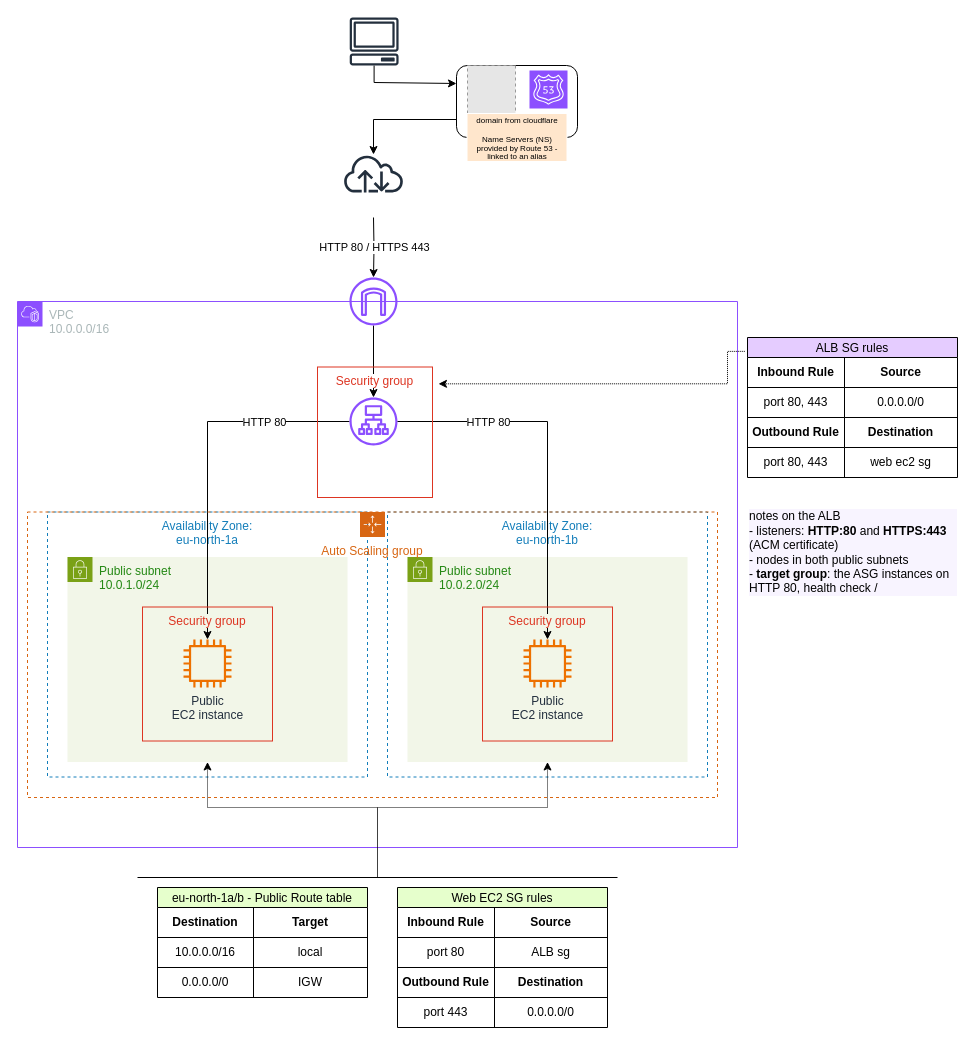
The diagram is 975 pixels wide and 1045 high, and some of its shapes have lost their labels. Grey dashed boxes stand in for pictures. Each missing label, with the centre of its shape:
"Application Load Balancer" belongs at (373,421).
"Internet" belongs at (373,173).
"Internet Gateway" belongs at (373,301).
